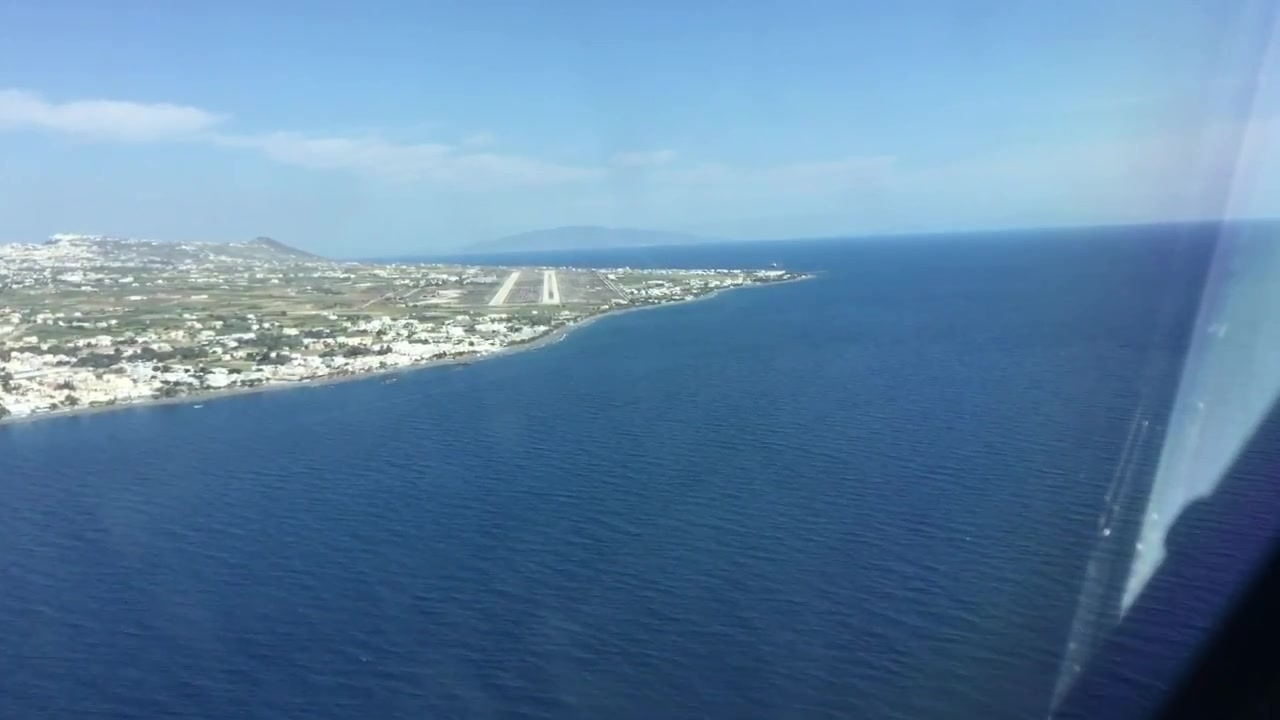runway: (485, 270, 522, 307), (541, 269, 561, 306)
